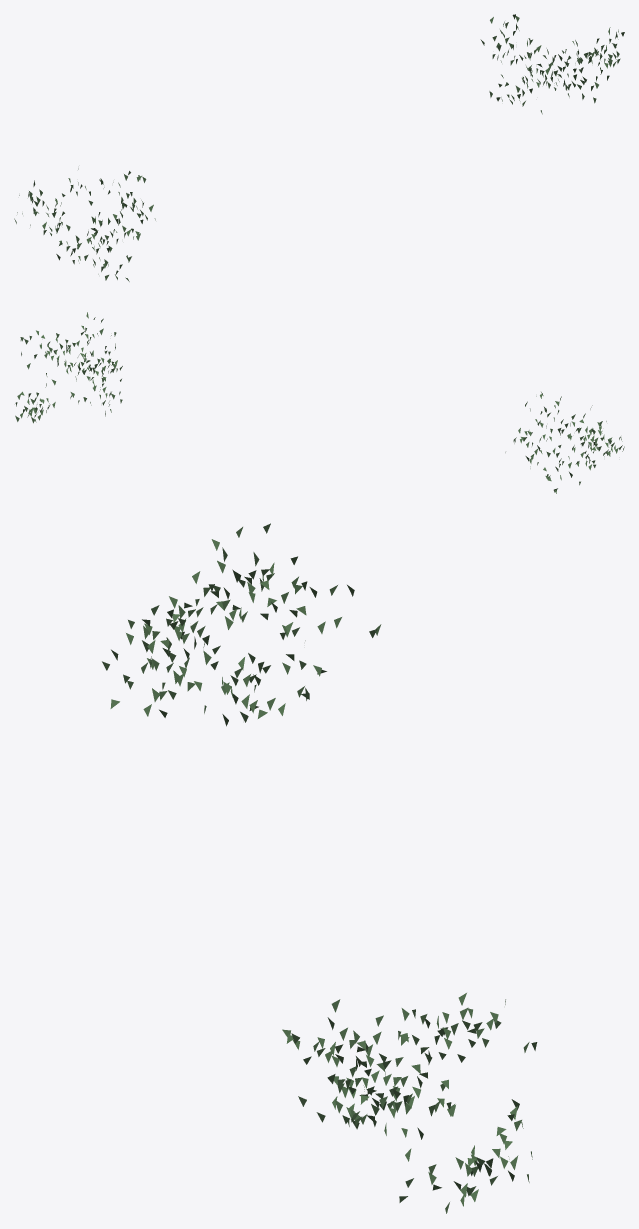
The model's file is xiyuan-vegetation-19-far.glb.
3 views of the same model, one above another, from view 1: azimuth 30°, elevation 25°; view 2: azimuth 150°, elevation 25°; view 3: azimuth 270°, elevation 25° (orthographic). The views are drawn at different scales.
Parts seen in each view (by area): view 1: vegetation broadleaf leaves.001; view 2: vegetation broadleaf leaves.001; view 3: vegetation broadleaf leaves.001.
Boxes of the visible parts, left/top/right/bottom form: vegetation broadleaf leaves.001: left=14, top=14, right=624, bottom=281; vegetation broadleaf leaves.001: left=15, top=312, right=624, bottom=493; vegetation broadleaf leaves.001: left=102, top=523, right=537, bottom=1213.
Bounding box in the file's own units: 35.77 × 5.38 × 12.08.
